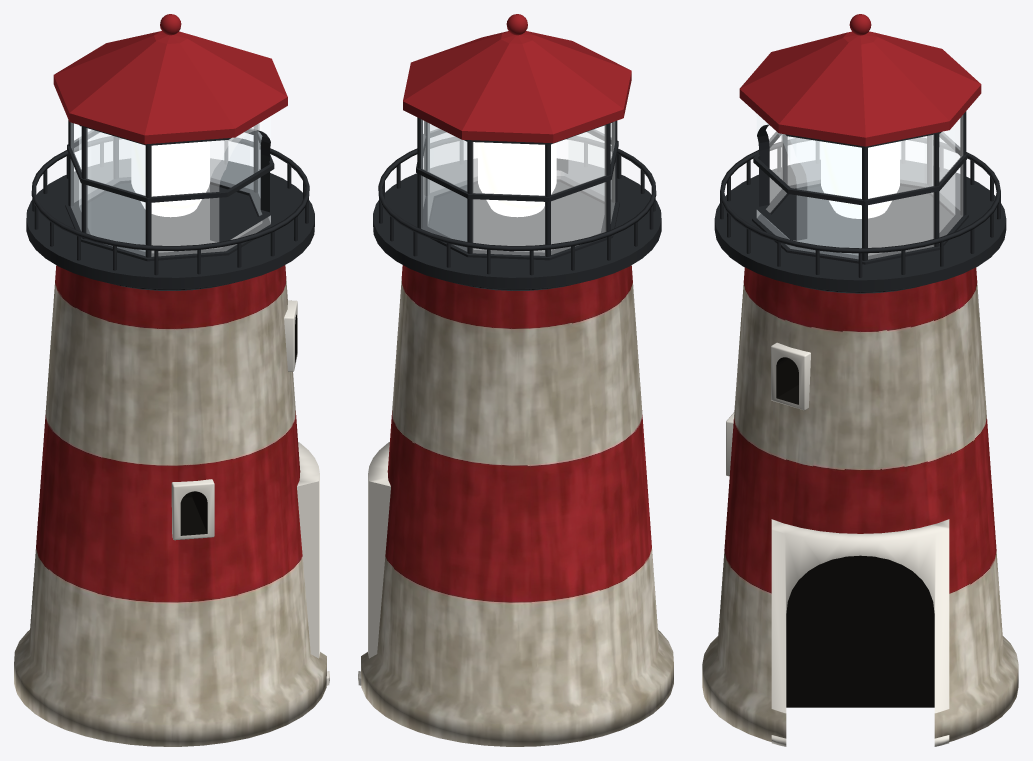
The model's file is lighthouse.glb.
3 renders of one model, left to right at view 1: azimuth 30°, elevation 25°; view 2: azimuth 150°, elevation 25°; view 3: azimuth 270°, elevation 25°, orthographic.
Visible parts, largest first — view 1: tower, gallery, roof, lantern, lens, door-frame.001, window-frame, window-frame.001; view 2: tower, gallery, roof, lantern, lens, door-frame.001; view 3: tower, gallery, roof, lantern, door-frame.001, lens, window-frame.001.
Part boxes in pixels (bbox=[...]): tower: bbox=[14, 265, 326, 746]; gallery: bbox=[26, 120, 314, 290]; roof: bbox=[53, 14, 287, 144]; lantern: bbox=[71, 116, 270, 256]; lens: bbox=[131, 141, 209, 217]; door-frame.001: bbox=[297, 442, 329, 685]; window-frame: bbox=[171, 479, 214, 540]; window-frame.001: bbox=[284, 300, 297, 371]; tower: bbox=[361, 265, 673, 746]; gallery: bbox=[373, 117, 661, 290]; roof: bbox=[403, 14, 631, 143]; lantern: bbox=[421, 119, 614, 255]; lens: bbox=[478, 142, 556, 217]; door-frame.001: bbox=[358, 442, 390, 685]; tower: bbox=[702, 267, 1018, 741]; gallery: bbox=[714, 111, 1006, 293]; roof: bbox=[739, 14, 981, 146]; lantern: bbox=[756, 114, 962, 259]; door-frame.001: bbox=[771, 519, 949, 746]; lens: bbox=[821, 141, 899, 218]; window-frame.001: bbox=[771, 342, 810, 410].
Bounding box in the file's own units: 6.25 × 15 × 6.4.
11 materials, 1 textured.
